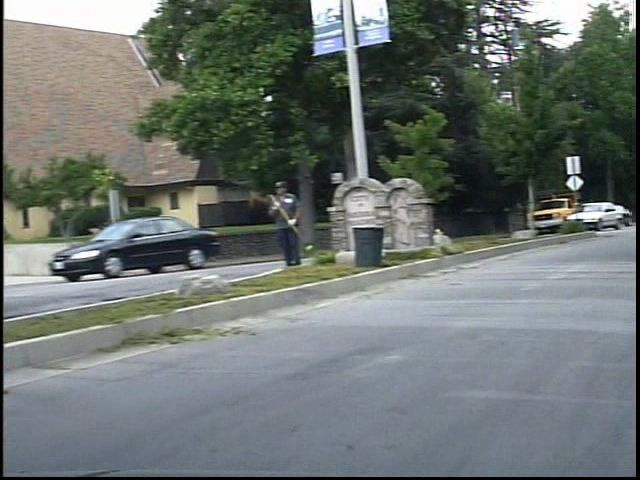person: (275, 177, 315, 268)
